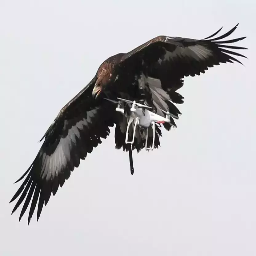Bird: (3, 12, 246, 226)
UAV: (108, 93, 170, 147)
